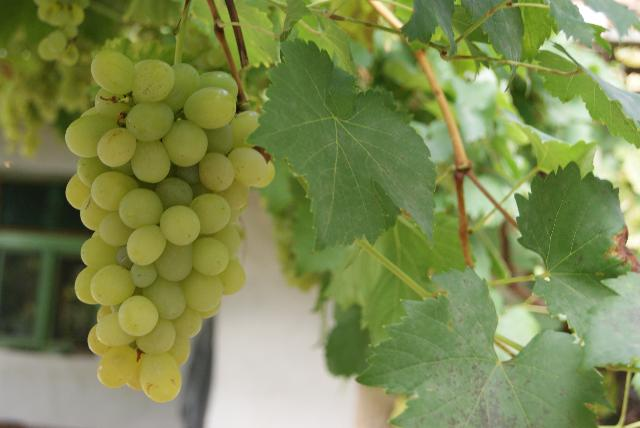grapes: (65, 50, 275, 402)
